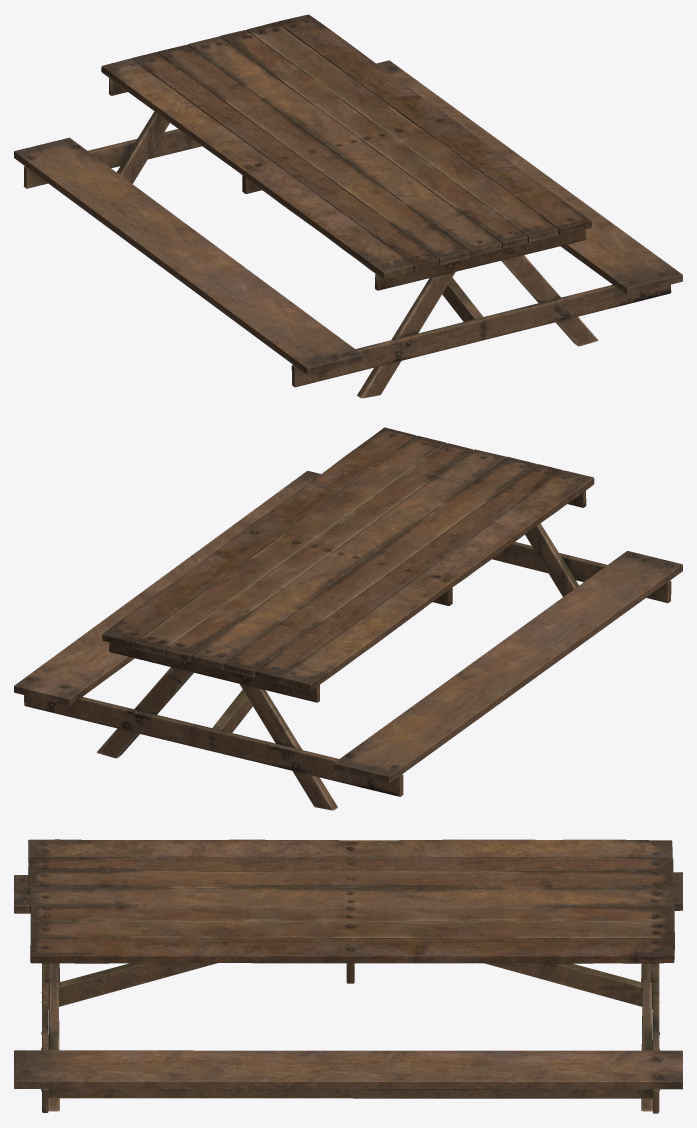
The model's file is wooden_picnic_table.glb.
The picture shows the model from 3 angles, top to bottom: view 1: azimuth 30°, elevation 25°; view 2: azimuth 150°, elevation 25°; view 3: azimuth 270°, elevation 25°; orthographic projection. The views are drawn at different scales.
Parts seen in each view (by area): view 1: table_LOD0; view 2: table_LOD0; view 3: table_LOD0.
Part boxes in pixels (x1=…): table_LOD0: x1=14, y1=14, x2=682, y2=398; table_LOD0: x1=14, y1=427, x2=682, y2=810; table_LOD0: x1=14, y1=839, x2=682, y2=1113.
Size of what is drawn, in the model's own units: 2.24 by 0.746 by 3.02.
Materials: 2 (2 with a texture image).
